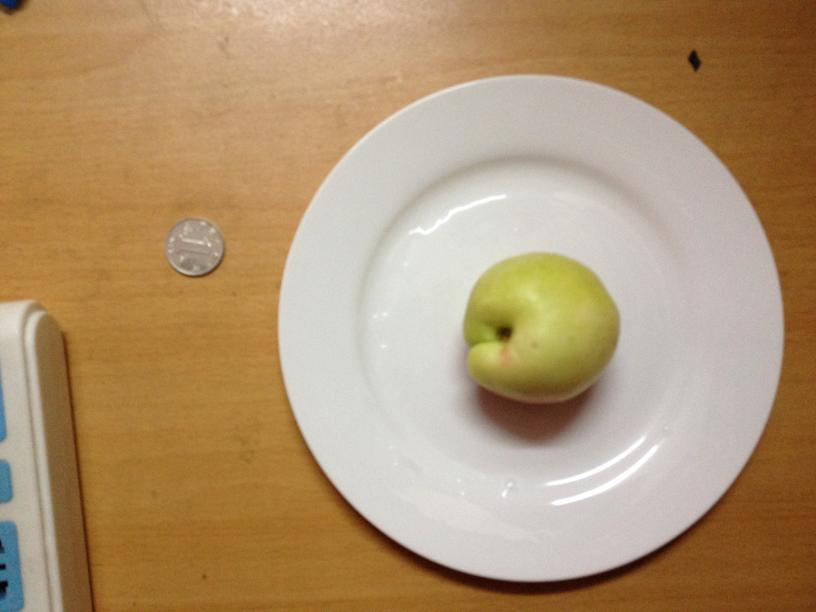coin: (160, 216, 227, 278)
peach: (464, 250, 621, 408)
